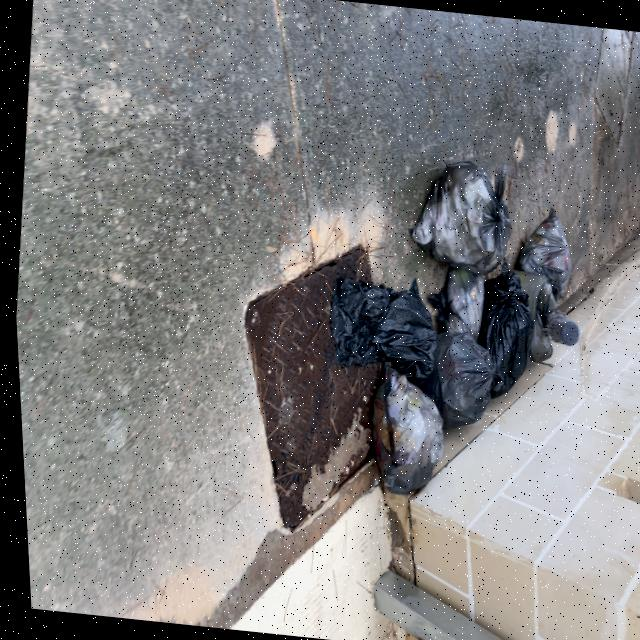Mixed Waste -Black Bag-: (402, 156, 516, 278), (321, 278, 440, 385), (356, 368, 447, 501), (469, 265, 536, 405), (407, 331, 494, 436), (507, 209, 575, 301), (429, 268, 487, 343)
Other: (514, 278, 583, 373)
